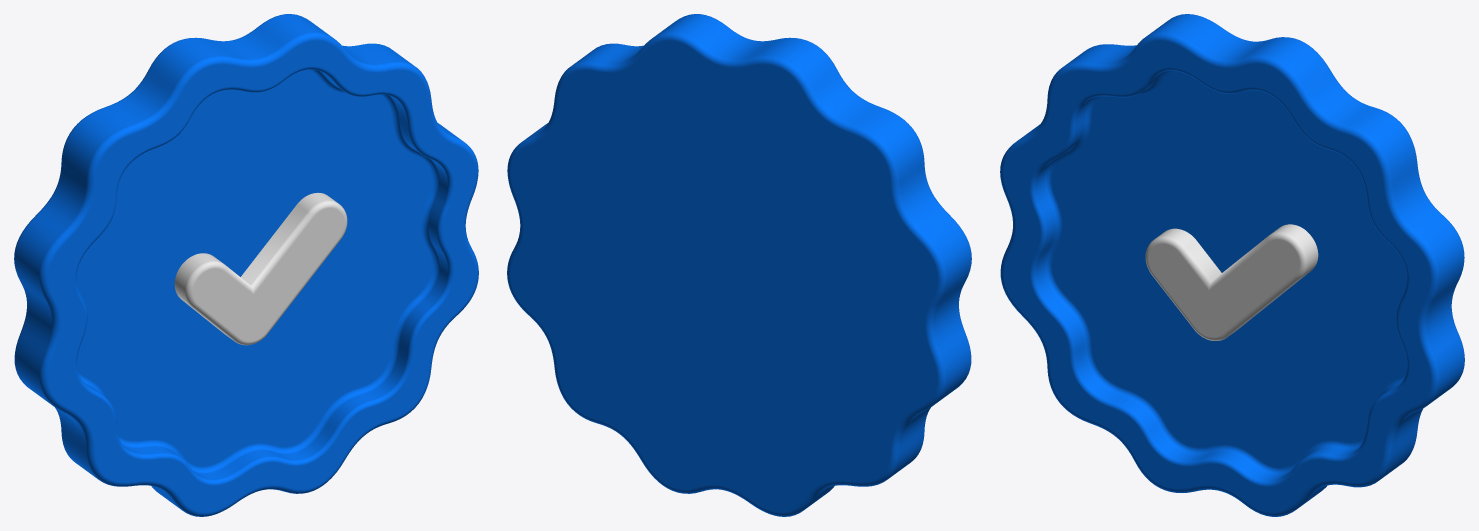
File: verified.glb
The picture shows the model from 3 angles, left to right: view 1: azimuth 30°, elevation 25°; view 2: azimuth 150°, elevation 25°; view 3: azimuth 330°, elevation 25°; orthographic projection.
Parts seen in each view (by area): view 1: Curve.007, Curve.013; view 2: Curve.007; view 3: Curve.007, Curve.013.
Boxes of the visible parts, x1,y1,x2,y2 form: Curve.007: (14, 14, 478, 516); Curve.013: (174, 192, 347, 345); Curve.007: (507, 14, 971, 516); Curve.007: (1000, 14, 1464, 516); Curve.013: (1145, 224, 1318, 340).
Size of the model in its own units: 19.31 by 19.31 by 2.34.
